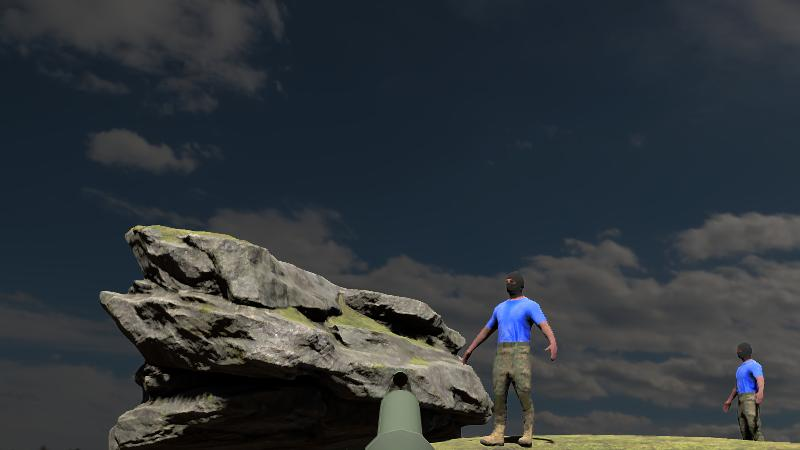Human: (464, 270, 557, 447), (724, 341, 766, 450)
